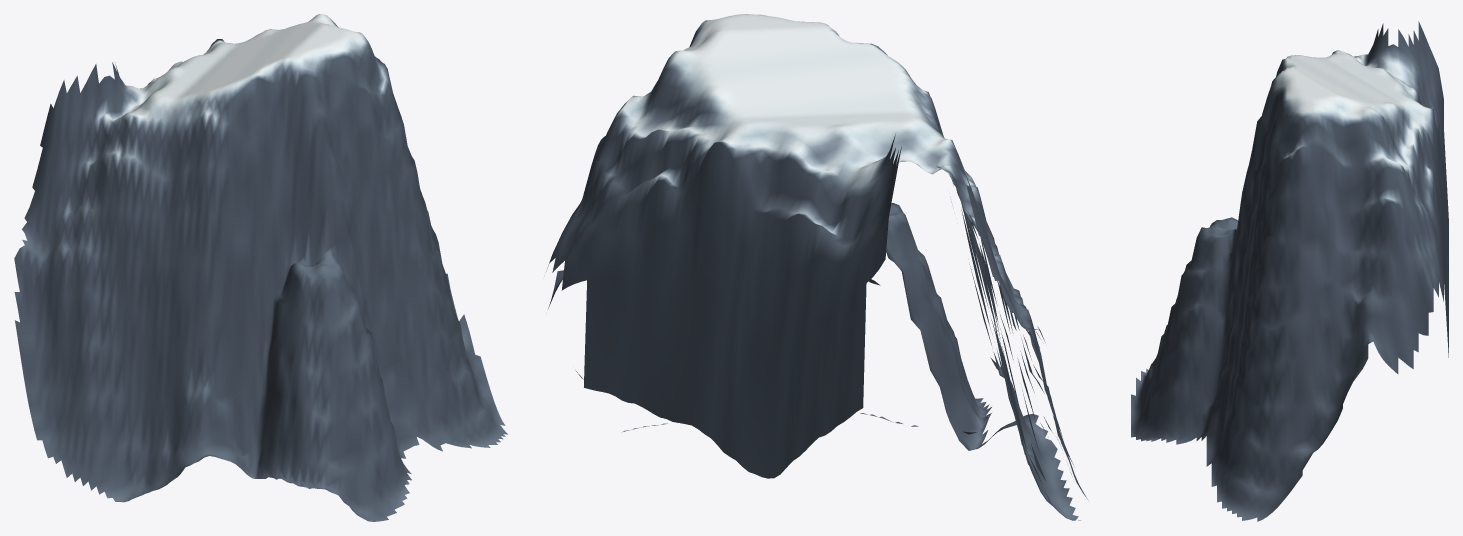
The model's file is dragon_peak_v8.glb.
3 renders of one model, left to right at view 1: azimuth 30°, elevation 25°; view 2: azimuth 150°, elevation 25°; view 3: azimuth 270°, elevation 25°, orthographic. The views are drawn at different scales.
Parts seen in each view (by area): view 1: dragon_peak_v8; view 2: dragon_peak_v8; view 3: dragon_peak_v8.
Part boxes in pixels (<box>): dragon_peak_v8: <box>14,14,507,521</box>; dragon_peak_v8: <box>546,14,1088,520</box>; dragon_peak_v8: <box>1131,21,1448,521</box>.
Bounding box in the file's own units: 89.92 × 78.83 × 61.95.
Materials: 1 (1 with a texture image).
